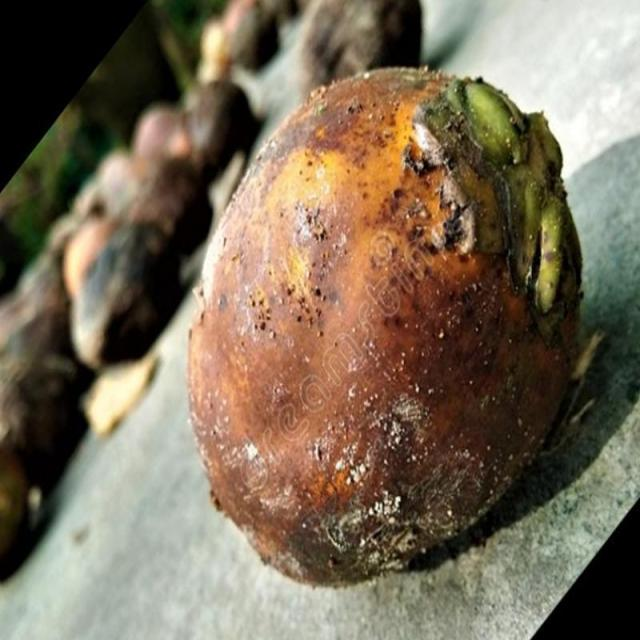damaged: (188, 69, 582, 582)
